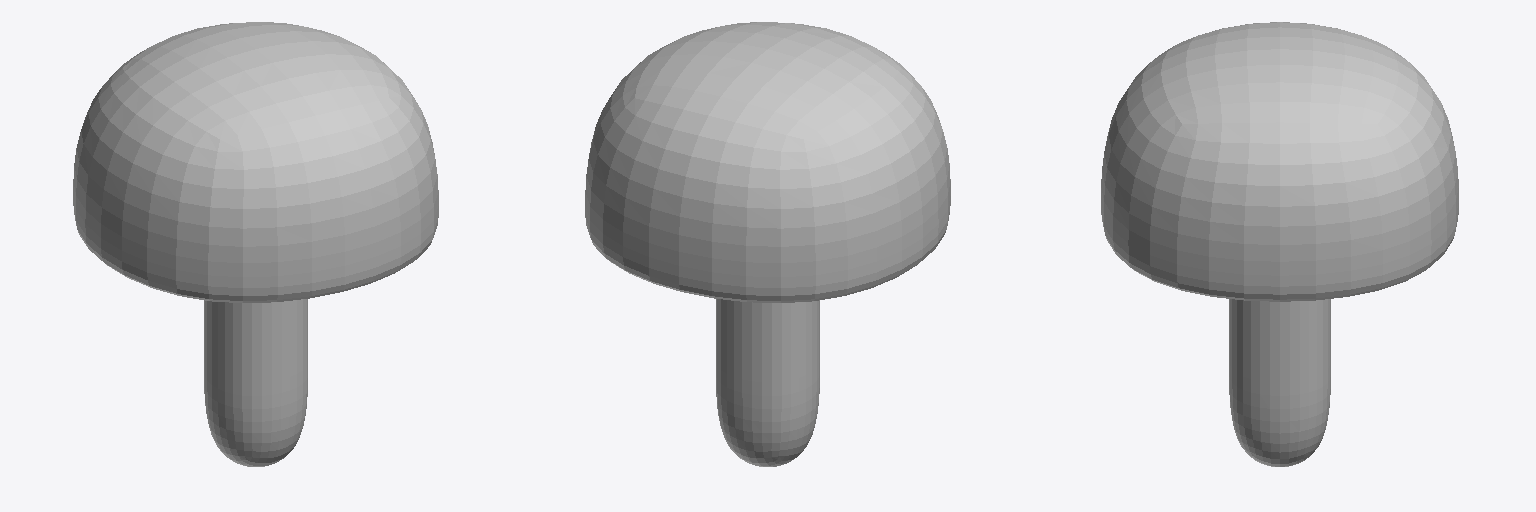
The model's file is Moosh.obj.
3 renders of one model, left to right at view 1: azimuth 30°, elevation 25°; view 2: azimuth 150°, elevation 25°; view 3: azimuth 270°, elevation 25°, orthographic.
Visible parts, largest first — view 1: Куб; view 2: Куб; view 3: Куб.
Part boxes in pixels (bbox=[...]): Куб: bbox=[73, 22, 438, 466]; Куб: bbox=[585, 22, 950, 466]; Куб: bbox=[1101, 22, 1458, 466].
Size of the model in its own units: 0.9531 by 1.22 by 0.9531.